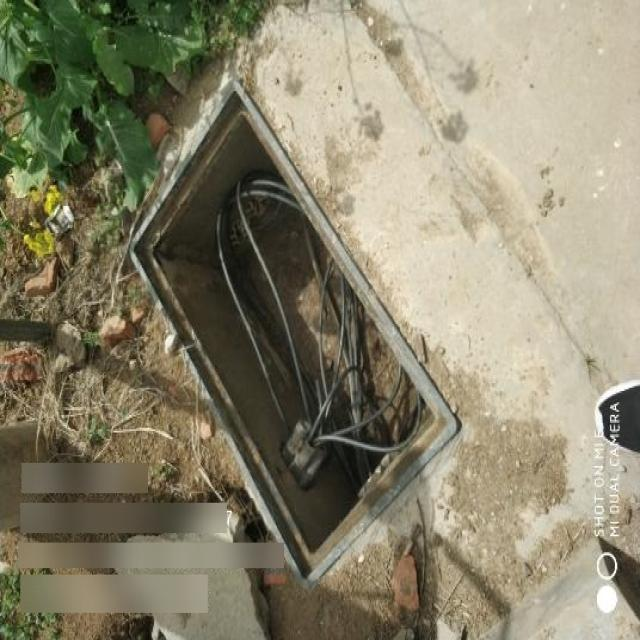Faulty: (126, 77, 458, 598)
